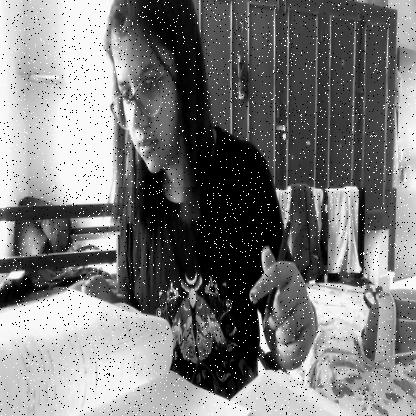Distracted: (105, 0, 196, 187)
